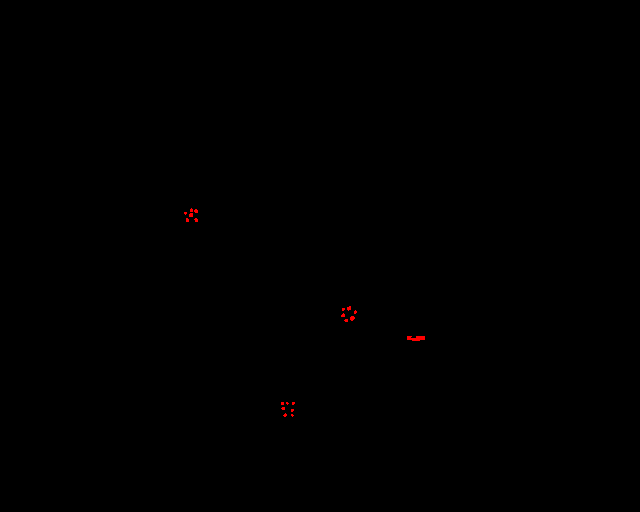Target: (407, 336, 425, 341), (350, 316, 355, 321), (347, 306, 351, 311), (194, 209, 198, 213), (189, 213, 193, 217), (194, 218, 198, 222), (341, 313, 345, 317), (283, 413, 287, 417), (190, 208, 193, 212), (186, 218, 189, 222), (354, 310, 357, 314), (344, 319, 348, 322), (281, 407, 285, 410), (184, 212, 187, 215), (342, 308, 345, 311), (281, 402, 284, 405), (286, 402, 289, 405), (292, 402, 295, 405), (291, 409, 294, 412), (291, 414, 294, 417)
